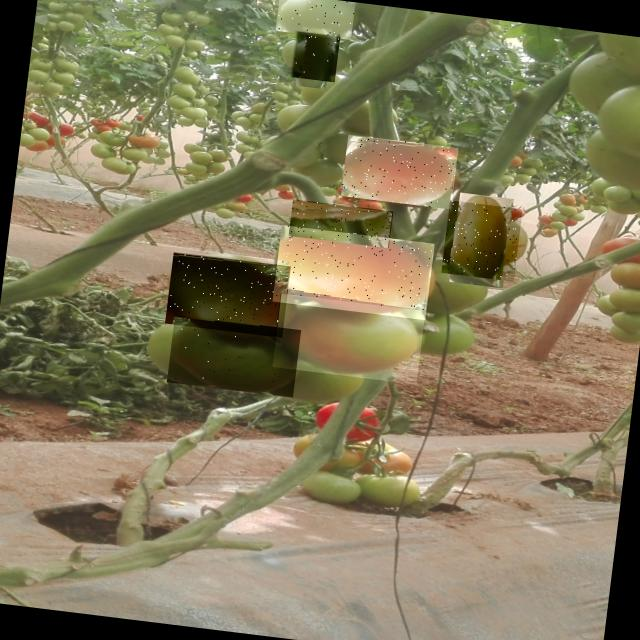Ripe Tomato: (340, 134, 458, 209)
Unripe Tomato: (272, 224, 434, 320), (272, 293, 425, 384), (167, 314, 300, 397), (164, 252, 290, 338), (441, 200, 522, 281), (288, 199, 393, 248), (275, 0, 355, 39), (288, 31, 339, 82)
